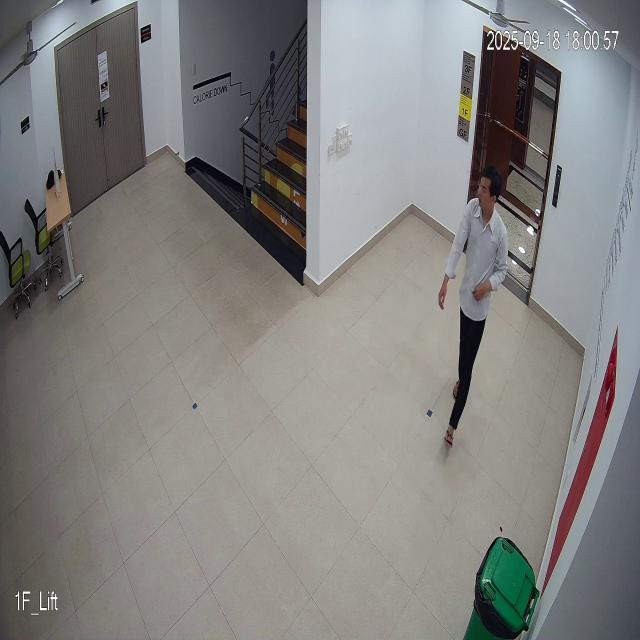face: (474, 165, 503, 216)
